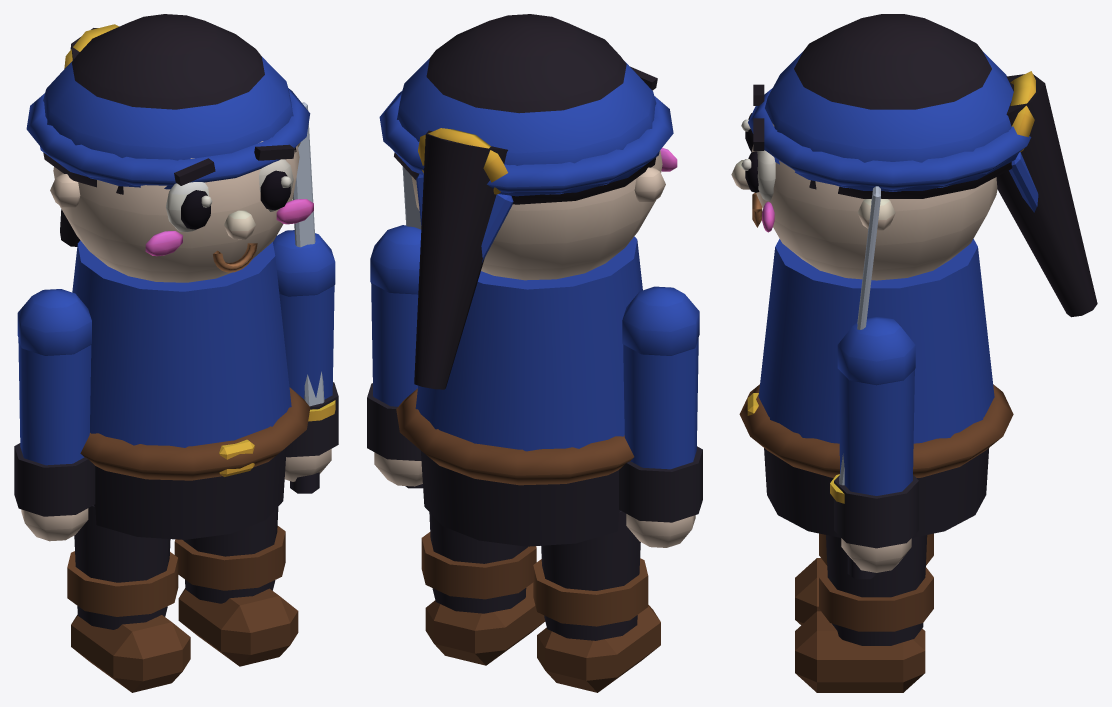
Rendered from hero_kaito.glb.
3 renders of one model, left to right at view 1: azimuth 30°, elevation 25°; view 2: azimuth 150°, elevation 25°; view 3: azimuth 270°, elevation 25°, orthographic. The views are drawn at different scales.
Visible parts, largest first — view 1: body_t0_palette, arml_t0_palette, legl_t0_palette, armr_t0_palette, legr_t0_palette; view 2: body_t0_palette, arml_t0_palette, legl_t0_palette, legr_t0_palette, armr_t0_palette; view 3: body_t0_palette, armr_t0_palette, legr_t0_palette, legl_t0_palette.
Boxes of the visible parts, bbox=[...] form: body_t0_palette: bbox=[26, 14, 313, 539]; arml_t0_palette: bbox=[14, 289, 95, 541]; legl_t0_palette: bbox=[67, 505, 190, 692]; armr_t0_palette: bbox=[273, 102, 338, 493]; legr_t0_palette: bbox=[174, 507, 298, 666]; body_t0_palette: bbox=[379, 14, 677, 546]; arml_t0_palette: bbox=[619, 286, 702, 547]; legl_t0_palette: bbox=[533, 511, 660, 692]; legr_t0_palette: bbox=[421, 512, 545, 665]; armr_t0_palette: bbox=[367, 166, 422, 488]; body_t0_palette: bbox=[731, 14, 1097, 537]; armr_t0_palette: bbox=[830, 186, 918, 579]; legr_t0_palette: bbox=[795, 535, 933, 692]; legl_t0_palette: bbox=[795, 533, 933, 625].
Bounding box in the file's own units: 0.27 × 0.508 × 0.2673.
